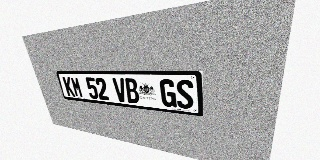2: (95, 77, 109, 100)
5: (85, 77, 99, 99)
B: (124, 78, 140, 104)
G: (159, 79, 177, 108)
K: (62, 77, 75, 97)
M: (70, 77, 84, 98)
S: (176, 79, 194, 110)
V: (112, 78, 128, 102)
